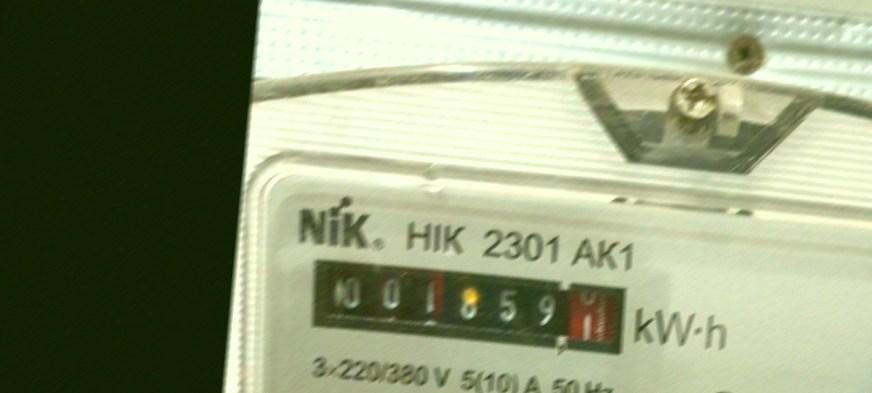0: (341, 272, 363, 309), (380, 273, 403, 308)
1: (424, 276, 438, 313), (579, 309, 594, 340)
5: (497, 284, 520, 322)
8: (458, 283, 481, 319)
9: (535, 290, 557, 326)
screen: (297, 244, 639, 364)
